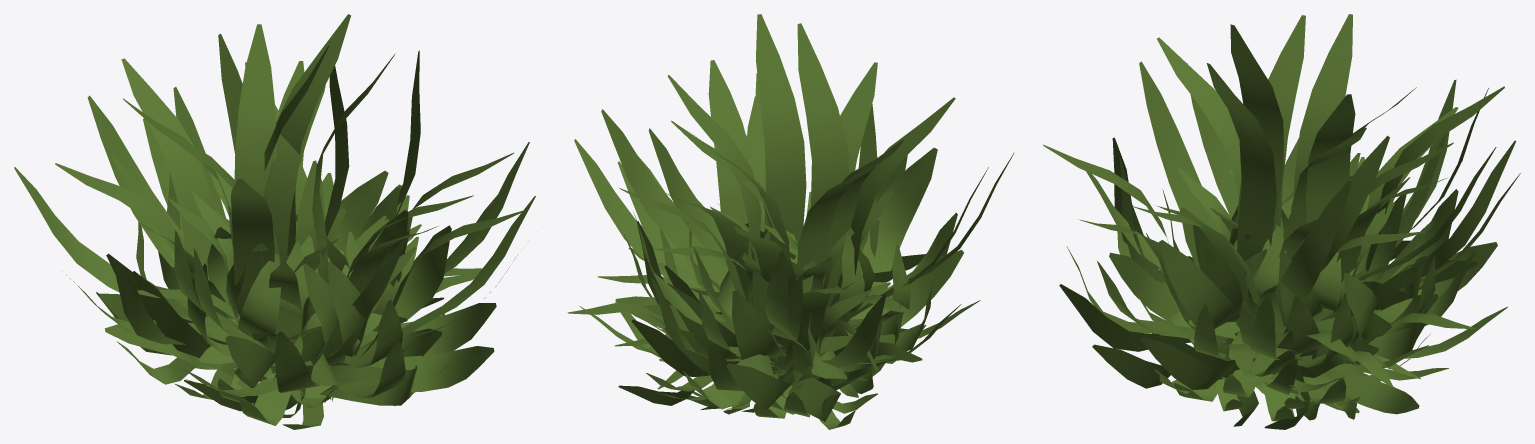
File: Cesped1.fbx
3 views of the same model, side by side, from view 1: azimuth 30°, elevation 25°; view 2: azimuth 150°, elevation 25°; view 3: azimuth 270°, elevation 25° (orthographic). The views are drawn at different scales.
Visible parts, largest first — view 1: GHI1.002|HI1.001|Dupli|18, GHI1.002|HI1.001|Dupli|2, GHI1.002|HI1.001|Dupli|16, GHI1.002|HI1.001|Dupli|7, GHI1.002|HI1.001|Dupli|9, GHI1.002|HI1.001|Dupli|17, GHI1.002|HI1.001|Dupli|10, GHI1.002|HI1.001|Dupli|4, GHI1.002|HI1.001|Dupli|15, GHI1.002|HI1.001|Dupli|24, GHI1.002|HI1.001|Dupli|13, GHI1.002|HI1.001|Dupli|21 (+6 smaller); view 2: GHI1.002|HI1.001|Dupli|7, GHI1.002|HI1.001|Dupli|15, GHI1.002|HI1.001|Dupli|16, GHI1.002|HI1.001|Dupli|22, GHI1.002|HI1.001|Dupli|2, GHI1.002|HI1.001|Dupli|4, GHI1.002|HI1.001|Dupli|24, GHI1.002|HI1.001|Dupli|3, GHI1.002|HI1.001|Dupli|18, GHI1.002|HI1.001|Dupli|10, GHI1.002|HI1.001|Dupli|19, GHI1.002|HI1.001|Dupli|5 (+9 smaller); view 3: GHI1.002|HI1.001|Dupli|7, GHI1.002|HI1.001|Dupli|10, GHI1.002|HI1.001|Dupli|4, GHI1.002|HI1.001|Dupli|22, GHI1.002|HI1.001|Dupli|15, GHI1.002|HI1.001|Dupli|24, GHI1.002|HI1.001|Dupli|13, GHI1.002|HI1.001|Dupli|, GHI1.002|HI1.001|Dupli|2, GHI1.002|HI1.001|Dupli|16, GHI1.002|HI1.001|Dupli|19, GHI1.002|HI1.001|Dupli|9 (+10 smaller).
Part boxes in pixels (x1,y1,x2,y2): GHI1.002|HI1.001|Dupli|18: (87, 24, 400, 369); GHI1.002|HI1.001|Dupli|2: (112, 179, 407, 408); GHI1.002|HI1.001|Dupli|16: (14, 58, 218, 384); GHI1.002|HI1.001|Dupli|7: (226, 50, 451, 357); GHI1.002|HI1.001|Dupli|9: (301, 196, 535, 401); GHI1.002|HI1.001|Dupli|17: (141, 85, 409, 388); GHI1.002|HI1.001|Dupli|10: (132, 116, 349, 425); GHI1.002|HI1.001|Dupli|4: (158, 14, 401, 293); GHI1.002|HI1.001|Dupli|15: (187, 45, 408, 381); GHI1.002|HI1.001|Dupli|24: (306, 142, 529, 368); GHI1.002|HI1.001|Dupli|13: (274, 226, 517, 405); GHI1.002|HI1.001|Dupli|21: (280, 183, 508, 372); GHI1.002|HI1.001|Dupli|7: (601, 14, 907, 331); GHI1.002|HI1.001|Dupli|15: (648, 23, 937, 357); GHI1.002|HI1.001|Dupli|16: (651, 225, 922, 429); GHI1.002|HI1.001|Dupli|22: (718, 156, 988, 380); GHI1.002|HI1.001|Dupli|2: (796, 97, 963, 360); GHI1.002|HI1.001|Dupli|4: (633, 75, 842, 409); GHI1.002|HI1.001|Dupli|24: (574, 60, 797, 334); GHI1.002|HI1.001|Dupli|3: (708, 287, 961, 421); GHI1.002|HI1.001|Dupli|18: (667, 133, 878, 417); GHI1.002|HI1.001|Dupli|10: (752, 140, 1014, 363); GHI1.002|HI1.001|Dupli|19: (619, 188, 820, 418); GHI1.002|HI1.001|Dupli|5: (624, 193, 856, 388); GHI1.002|HI1.001|Dupli|7: (1119, 63, 1391, 394); GHI1.002|HI1.001|Dupli|10: (1109, 15, 1406, 324); GHI1.002|HI1.001|Dupli|4: (1192, 94, 1516, 365); GHI1.002|HI1.001|Dupli|22: (1187, 14, 1458, 312); GHI1.002|HI1.001|Dupli|15: (1112, 24, 1407, 310); GHI1.002|HI1.001|Dupli|24: (1119, 206, 1357, 421); GHI1.002|HI1.001|Dupli|13: (1043, 144, 1257, 401); GHI1.002|HI1.001|Dupli|: (1303, 298, 1507, 414); GHI1.002|HI1.001|Dupli|2: (1086, 37, 1298, 344); GHI1.002|HI1.001|Dupli|16: (1300, 79, 1504, 334); GHI1.002|HI1.001|Dupli|19: (1288, 173, 1520, 359); GHI1.002|HI1.001|Dupli|9: (1066, 219, 1298, 411).
Bounding box in the file's own units: 699 × 570 × 664.
